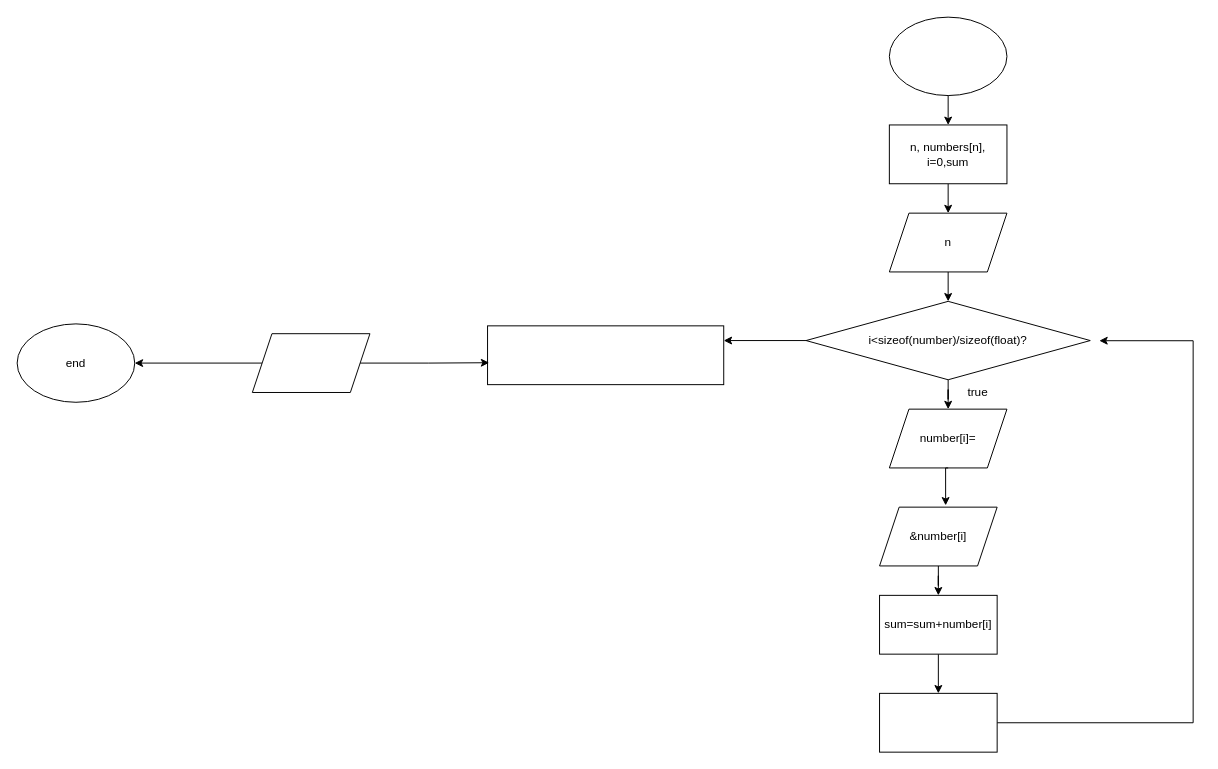
Some shapes in this 1218 by 769 pixel diagram are drawn without their labels. The shapes that lost their labels are listed below. From the top down, each one's centre as x and y in pixels, then its label:
the point at 947,56: start
the point at 310,362: agvNumber
the point at 605,355: agvNumber= sum/(sizeof(number)/sizeof(float))
the point at 938,722: i++
